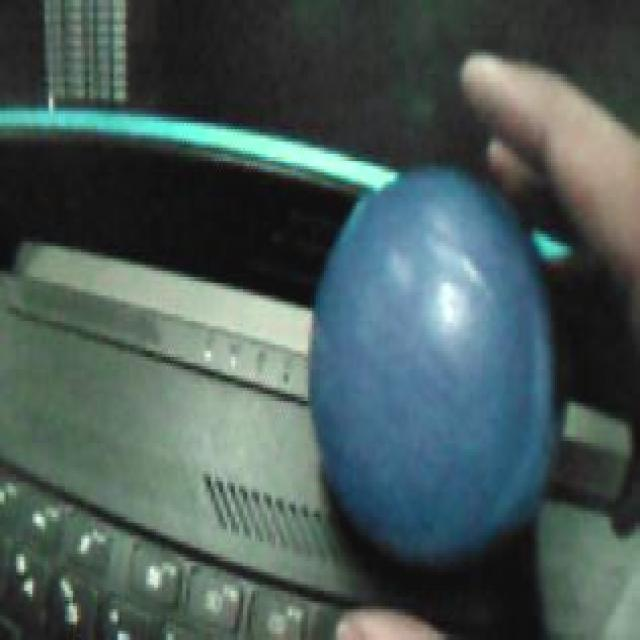BallPurple: (309, 165, 553, 568)
